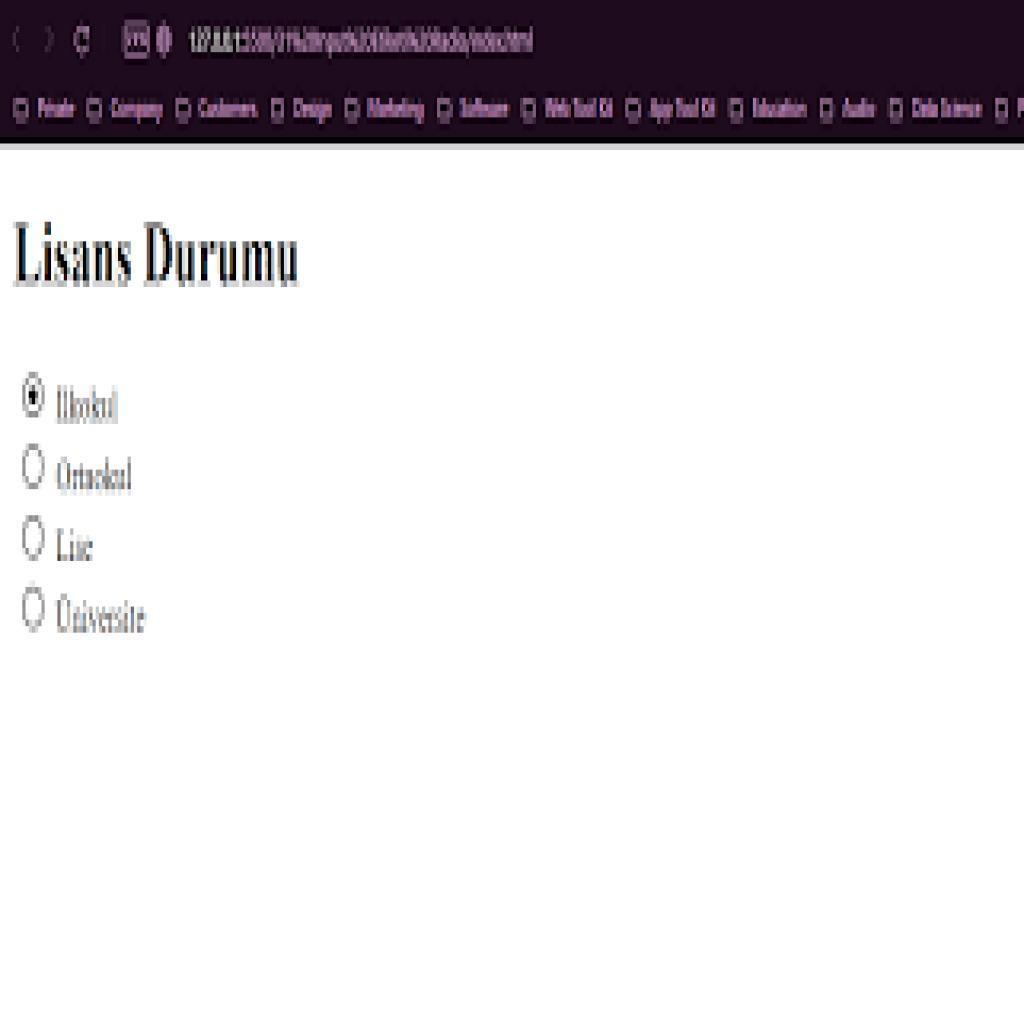label: (13, 216, 307, 291), (54, 591, 153, 640), (54, 455, 139, 500), (54, 380, 124, 429), (55, 525, 97, 568)
radio: (21, 368, 48, 421), (22, 585, 48, 636), (22, 443, 48, 492), (22, 516, 46, 562)
